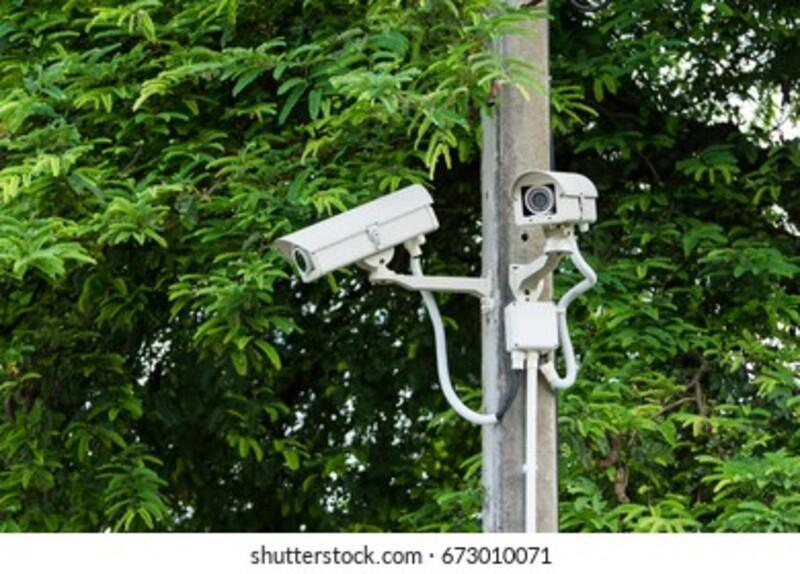box: (263, 245, 447, 304), (503, 168, 599, 232)
